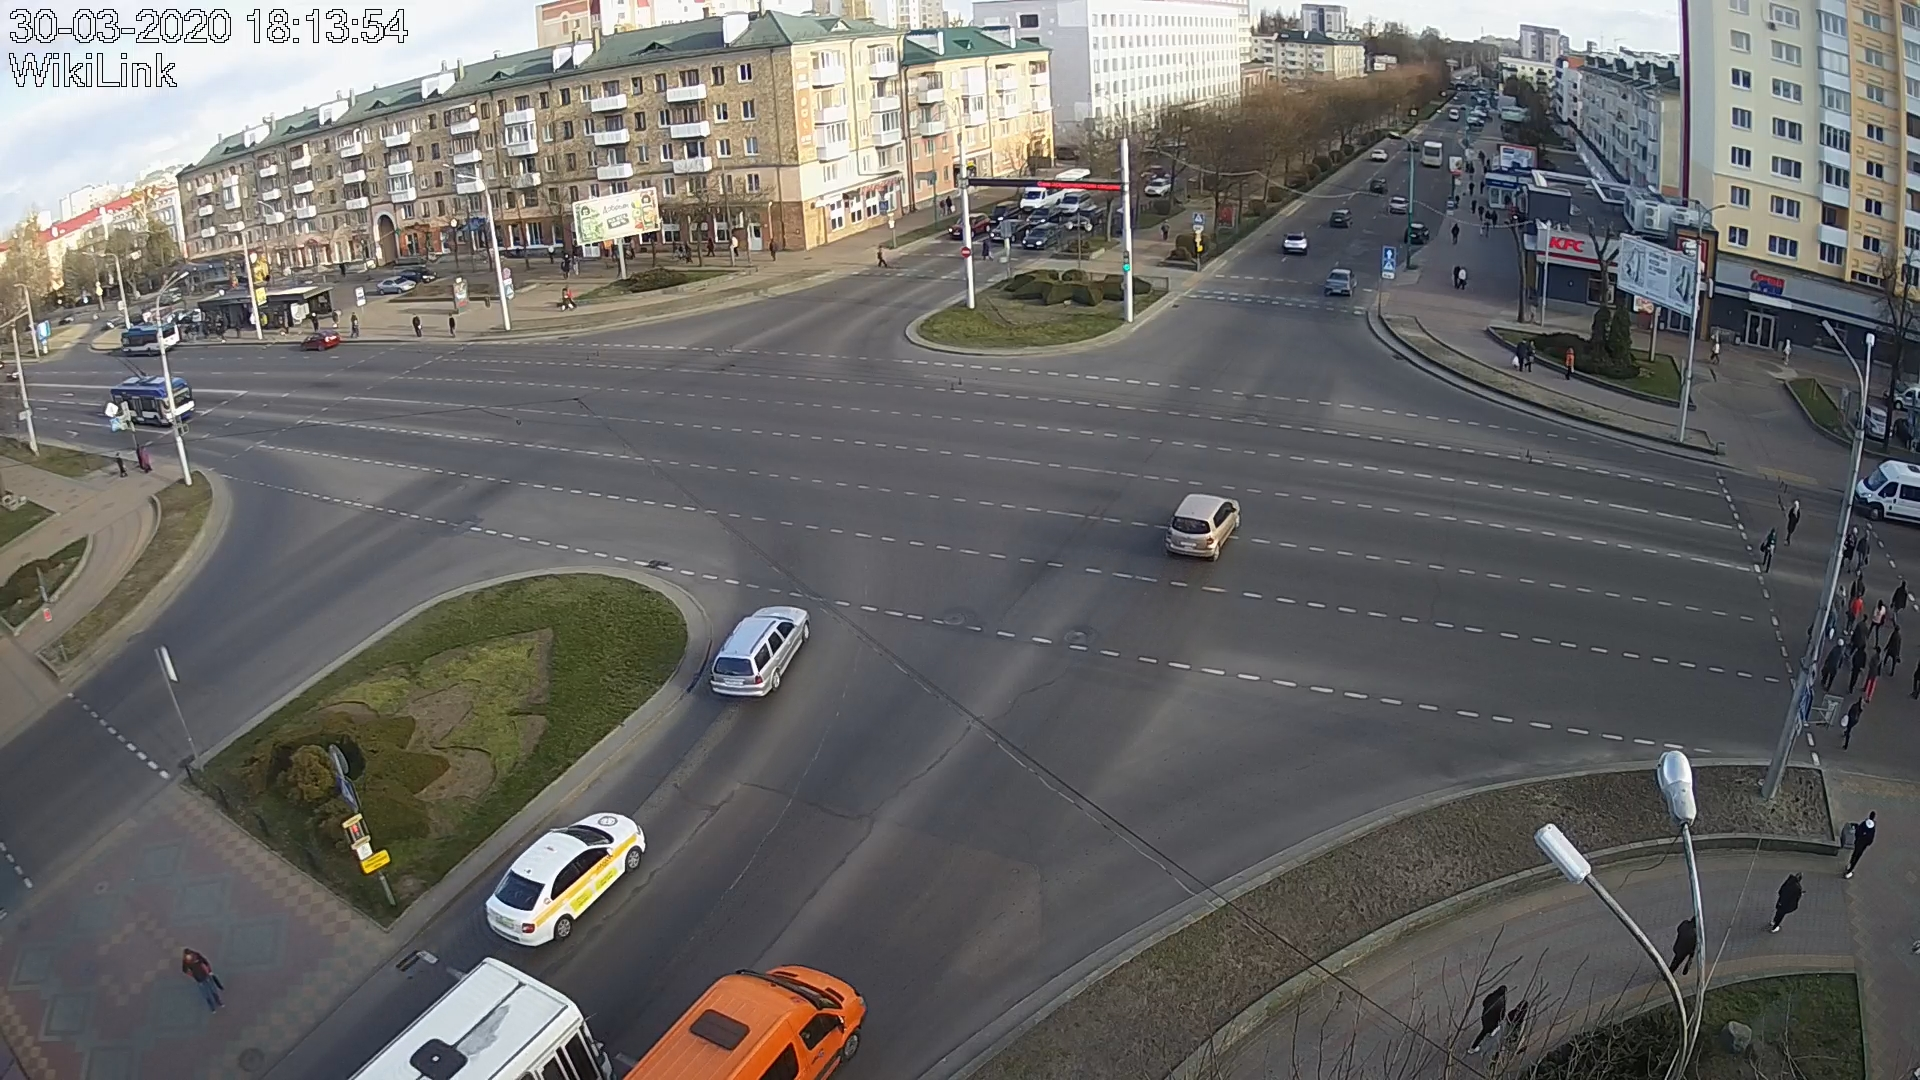bus: (111, 376, 195, 427), (121, 323, 179, 356)
car: (484, 811, 646, 947), (709, 604, 811, 699), (1166, 493, 1241, 560), (1022, 222, 1062, 251), (990, 218, 1030, 245), (949, 212, 990, 239), (1324, 268, 1356, 295), (301, 330, 342, 351), (1282, 231, 1309, 255)
